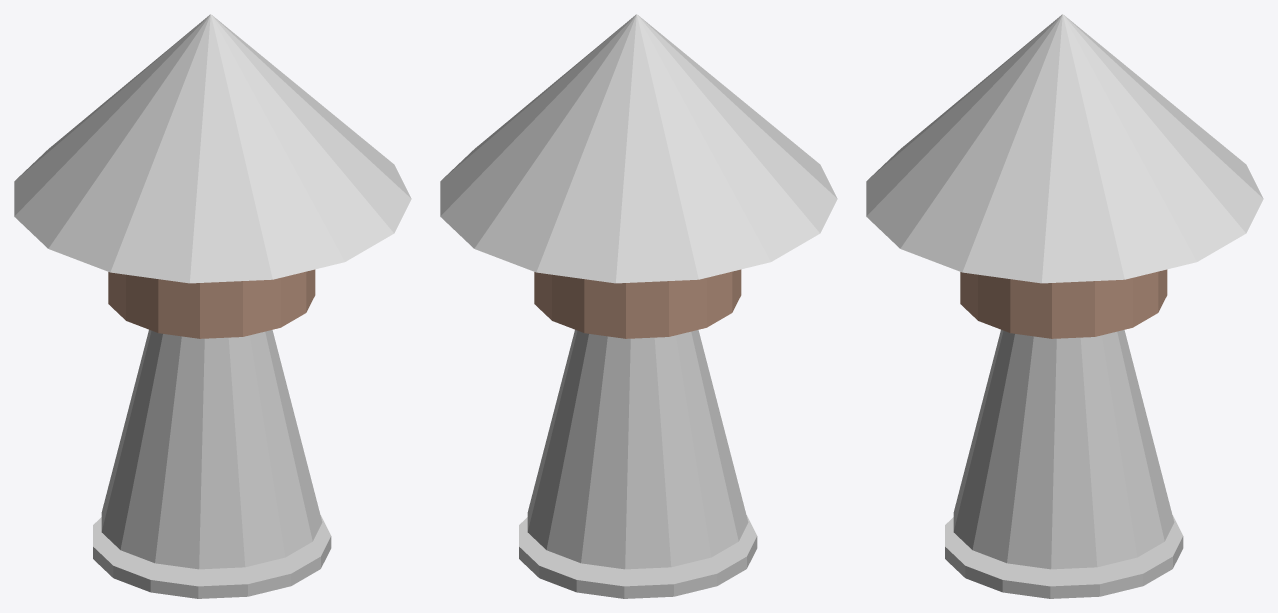
File: EnemyWhite.fbx
3 views of the same model, side by side, from view 1: azimuth 30°, elevation 25°; view 2: azimuth 150°, elevation 25°; view 3: azimuth 270°, elevation 25° (orthographic).
Parts seen in each view (by area): view 1: Player; view 2: Player; view 3: Player.
Part boxes in pixels (bbox=[...]): Player: bbox=[14, 14, 411, 598]; Player: bbox=[440, 14, 837, 598]; Player: bbox=[866, 14, 1263, 598].
Bounding box in the file's own units: 1951 × 2878 × 1940.
